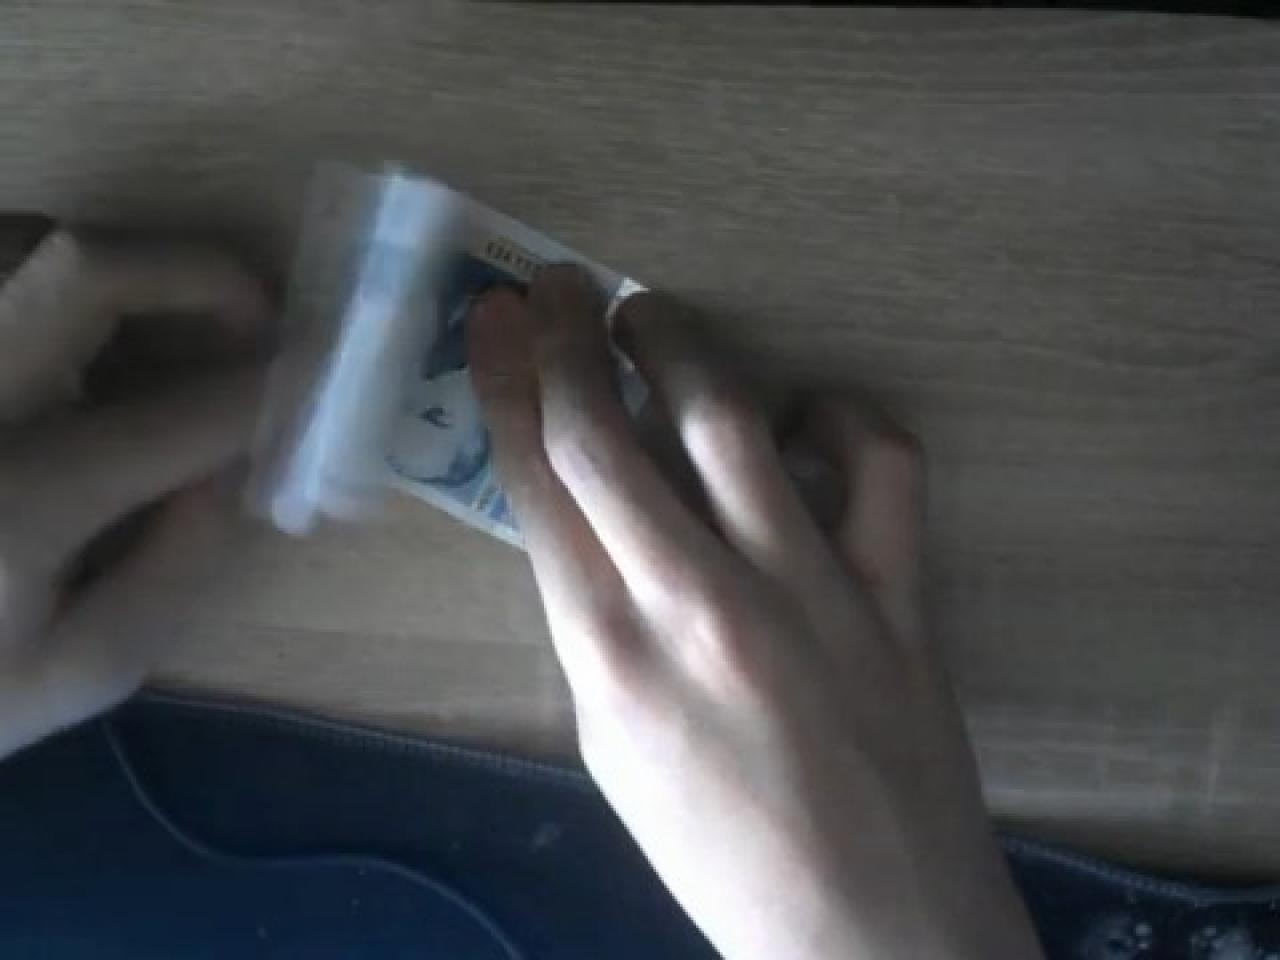20leva: (251, 152, 645, 542)
